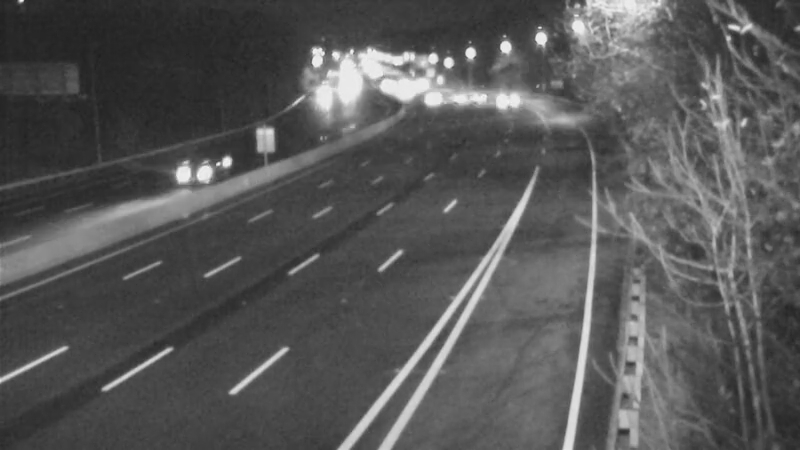vehicle: (154, 138, 234, 218), (448, 69, 498, 119), (428, 73, 478, 123), (474, 72, 524, 122)
